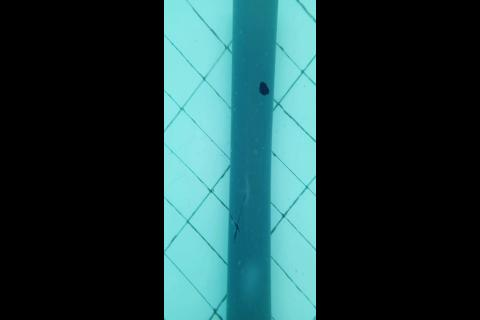kebocoran: (258, 79, 269, 97)
keretakan: (231, 203, 246, 242)
